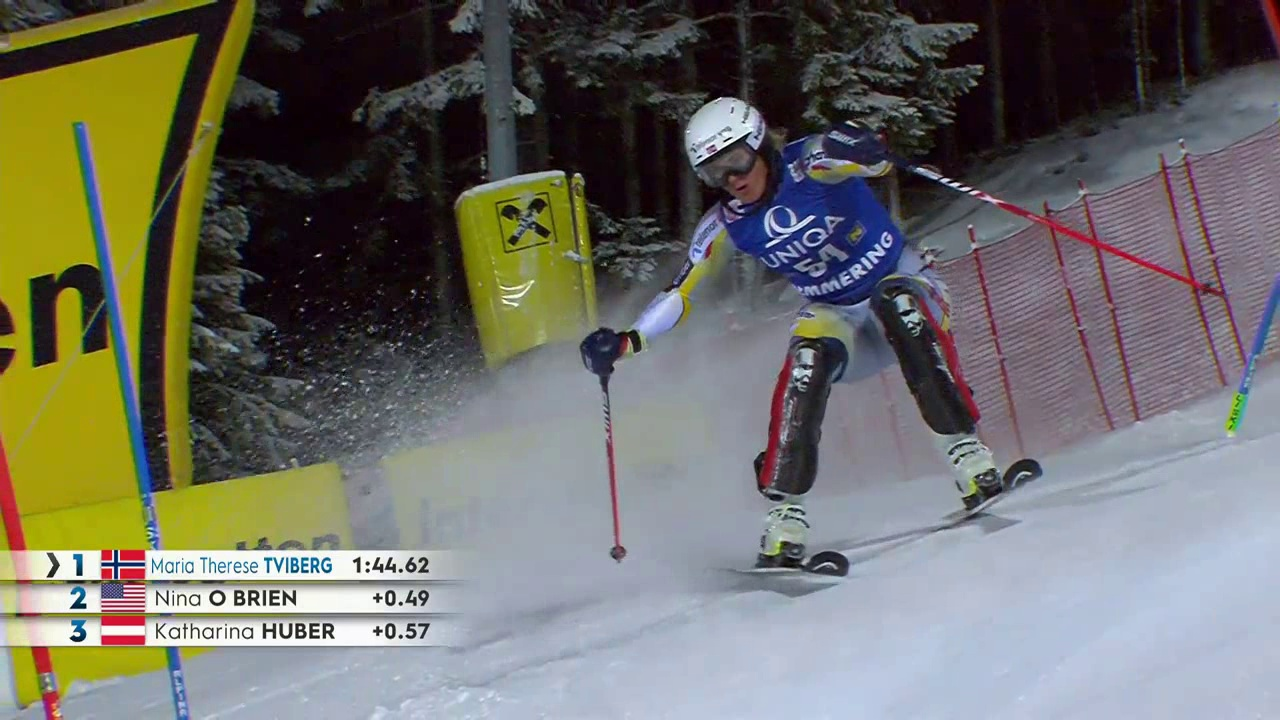raiffeisen: (493, 193, 561, 257)
uniqa: (754, 206, 848, 281)
